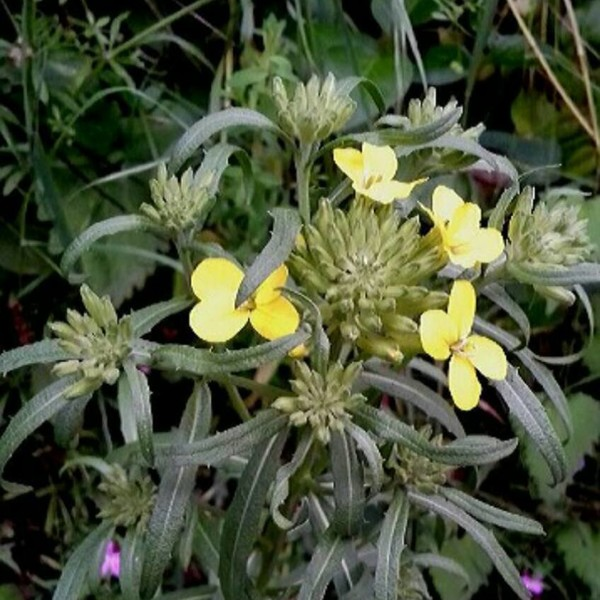obstacle: (75, 94, 542, 575)
